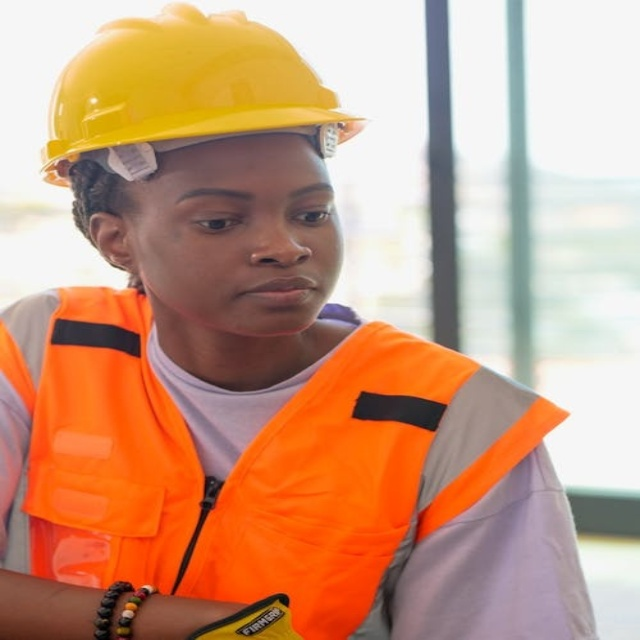Sin_gafas: (163, 185, 342, 237)
Sin_mascara: (218, 272, 325, 328)
